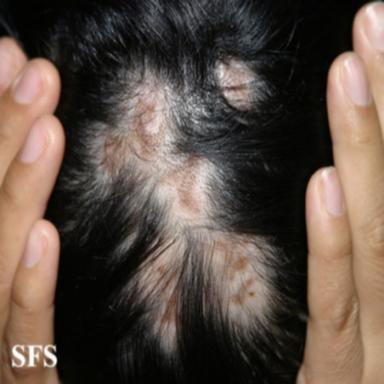Lupus-Erythematosus-Chronicus-Discoides: (73, 66, 273, 363), (217, 56, 271, 110)
